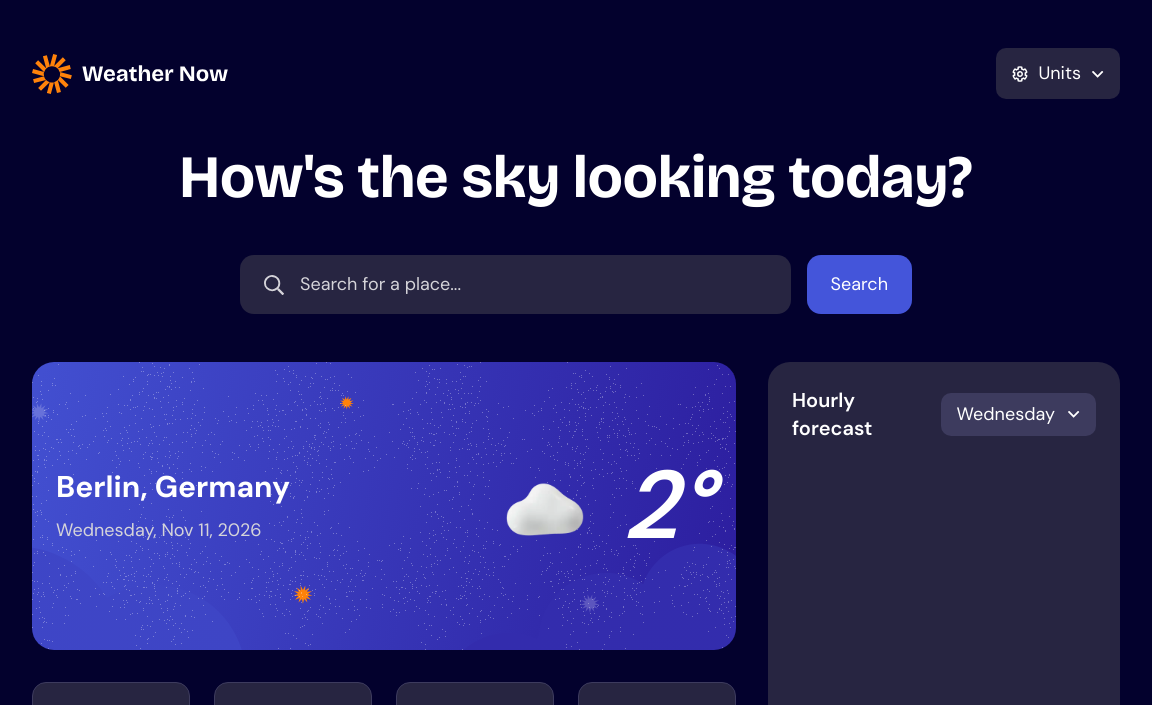
it: Imperial/Metric 한 번에 전환 › Imperial로 바꾼 뒤 Units 드롭다운을 열면 토글 문구가 Switch to Metric이고 Fahrenheit, mph, Inches가 선택돼 있다
The width and height of the screenshot is (1152, 705).
Check: the text "Berlin, Germany" is shown, box [56,468,290,504]
Click the button "Units" at (1058, 74), box [996,48,1120,99]
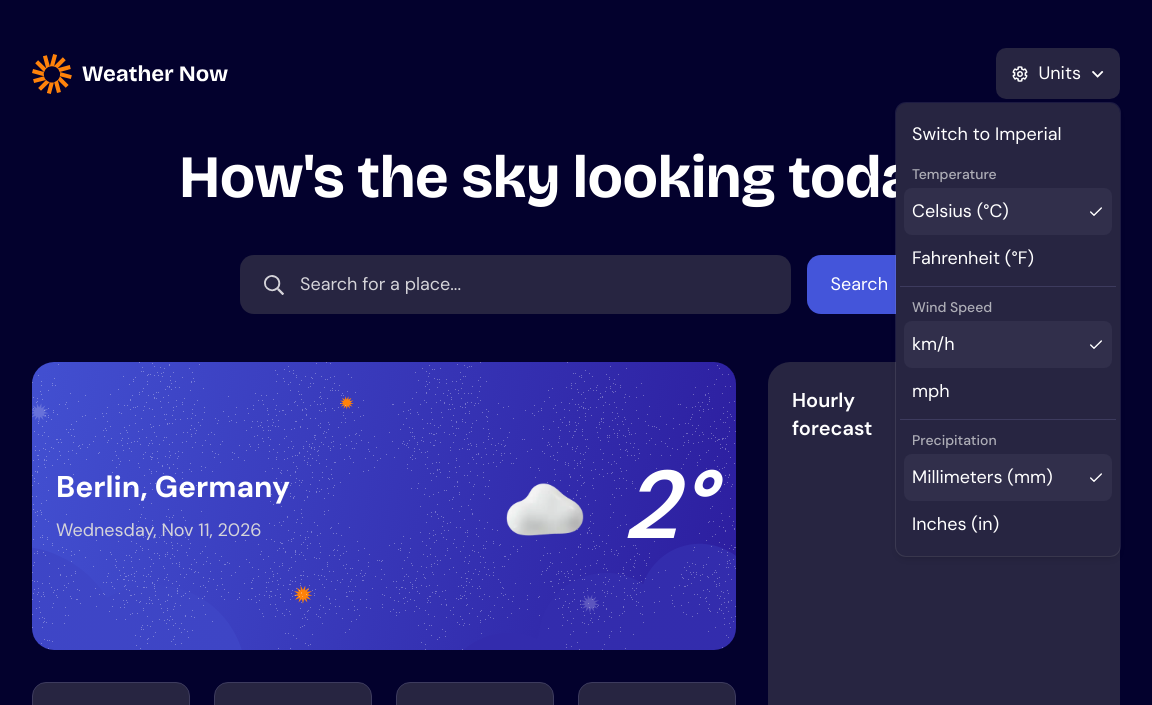
Click the menu item "Switch to Imperial" at (987, 134), box [912,122,1062,146]
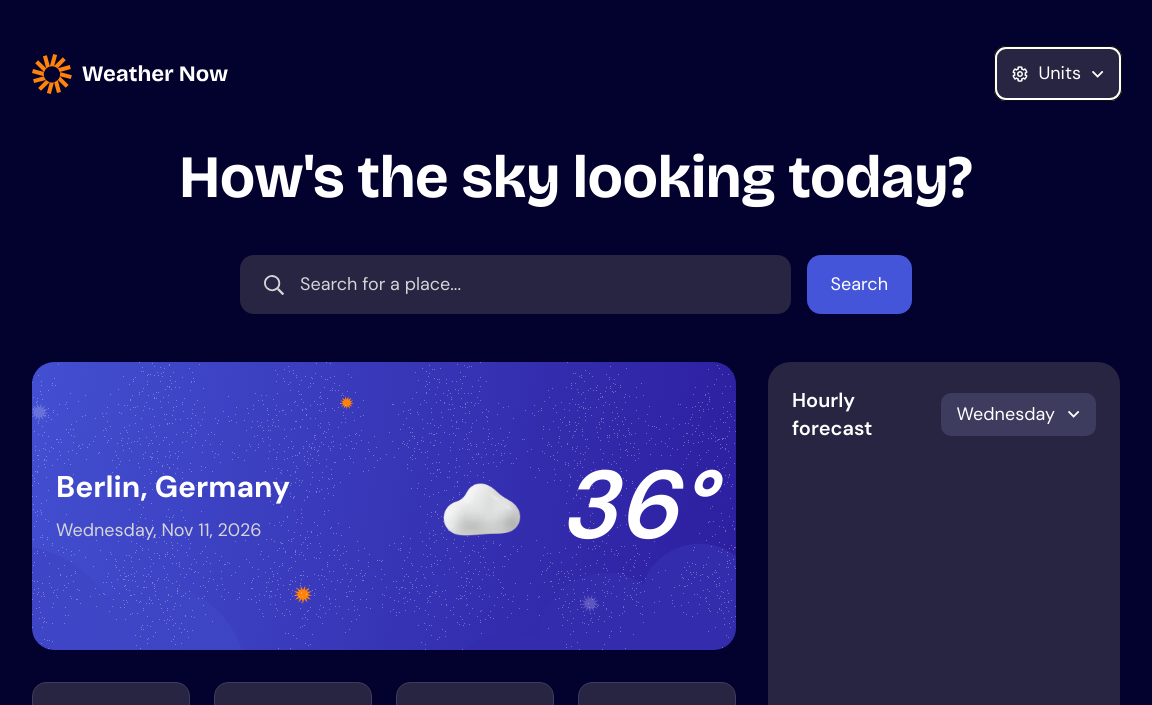
Check: the menu is gone
Click the button "Units" at (1058, 74), box [996,48,1120,99]
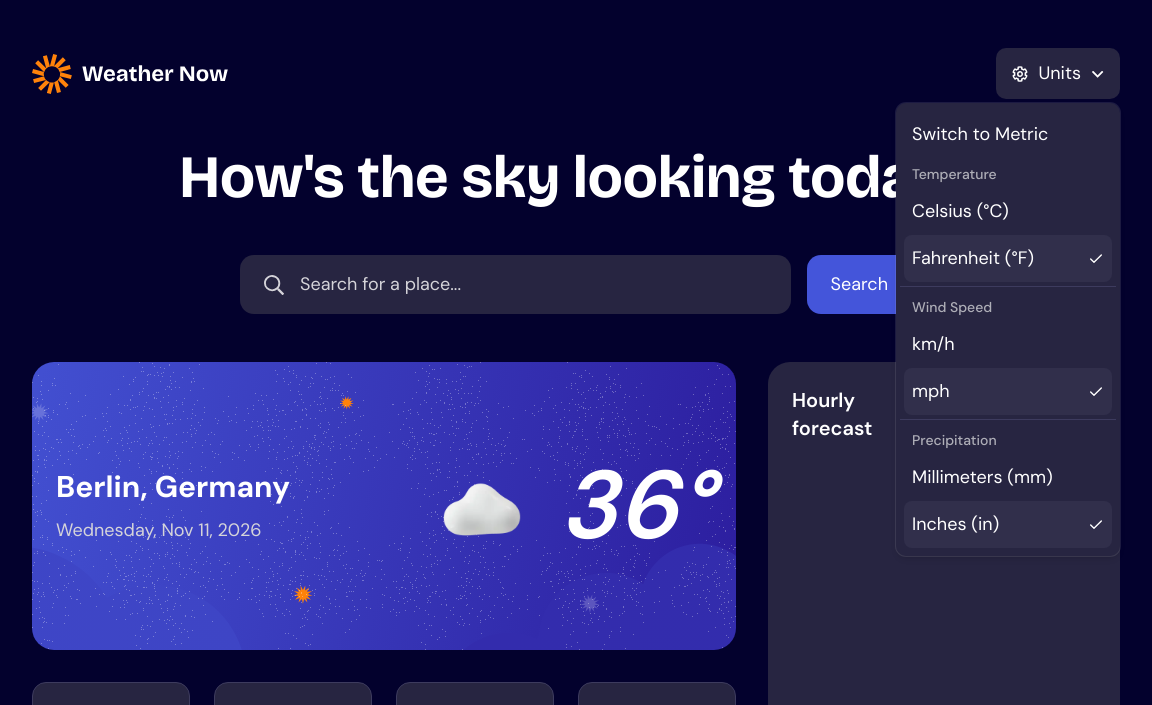
Check: the menu item "Switch to Metric" is shown, box [912,122,1048,146]
